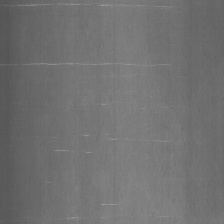waist_folding: (0, 0, 192, 205)
